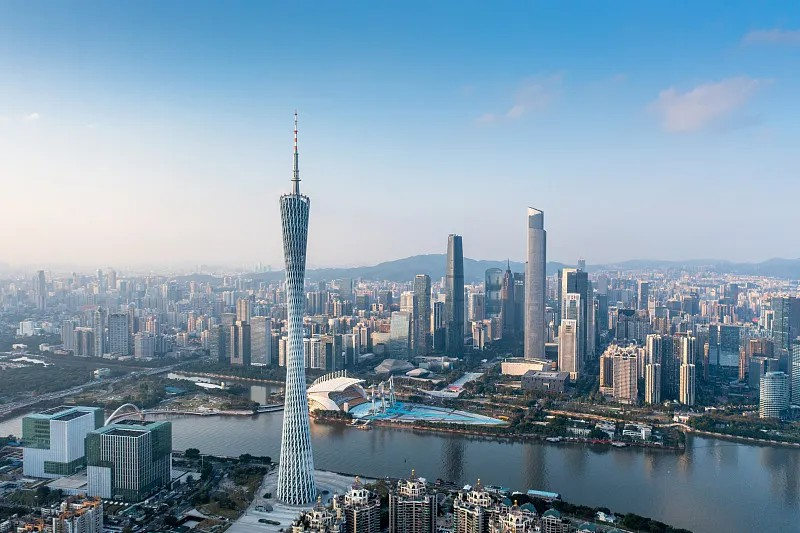Canton: (278, 106, 319, 504)
